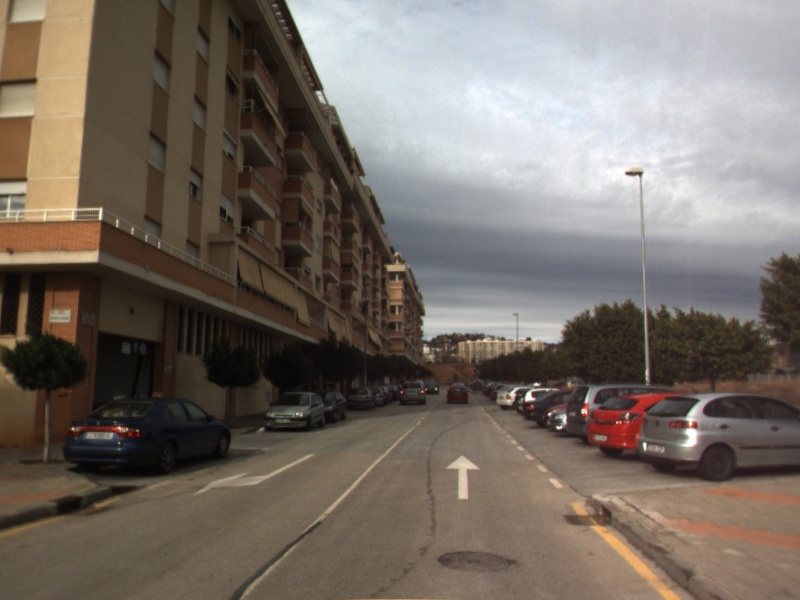STRAIGHT: (444, 453, 482, 501)
